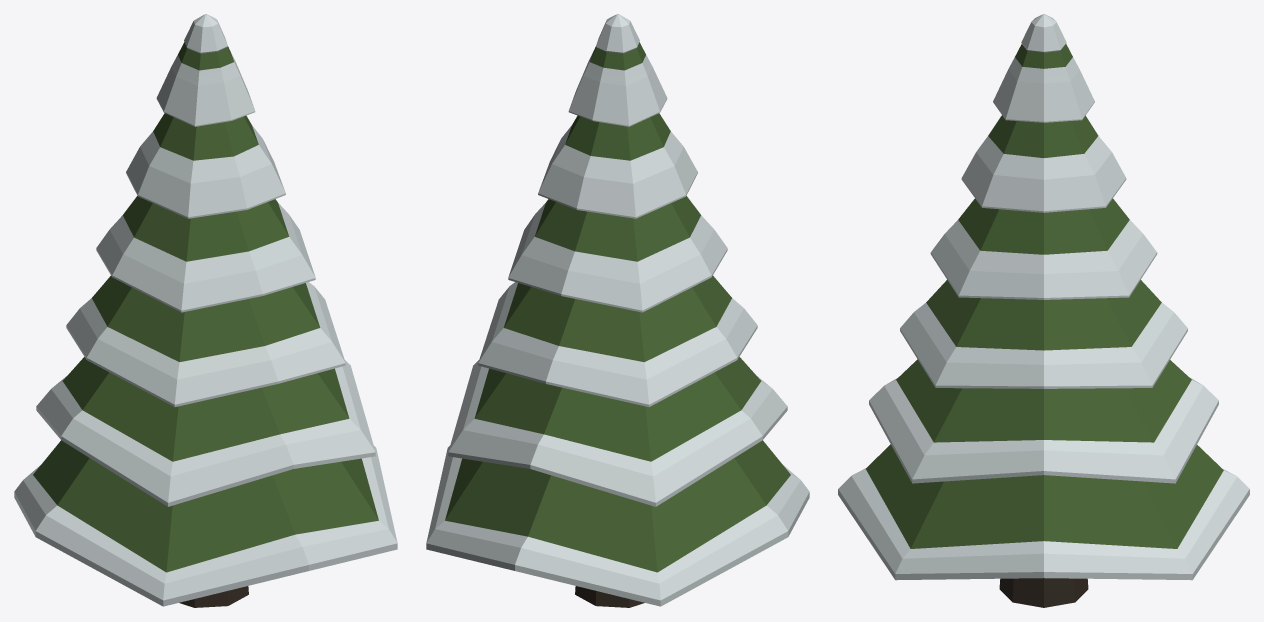
Rendered from tree2.fbx.
The picture shows the model from 3 angles, left to right: view 1: azimuth 30°, elevation 25°; view 2: azimuth 150°, elevation 25°; view 3: azimuth 270°, elevation 25°; orthographic projection.
Visible parts, largest first — view 1: Snow_PineTree; view 2: Snow_PineTree; view 3: Snow_PineTree.
Part boxes in pixels (bbox=[...]): Snow_PineTree: bbox=[14, 14, 397, 607]; Snow_PineTree: bbox=[426, 14, 809, 607]; Snow_PineTree: bbox=[838, 14, 1249, 607].
Bounding box in the file's own units: 475 × 766 × 497.
